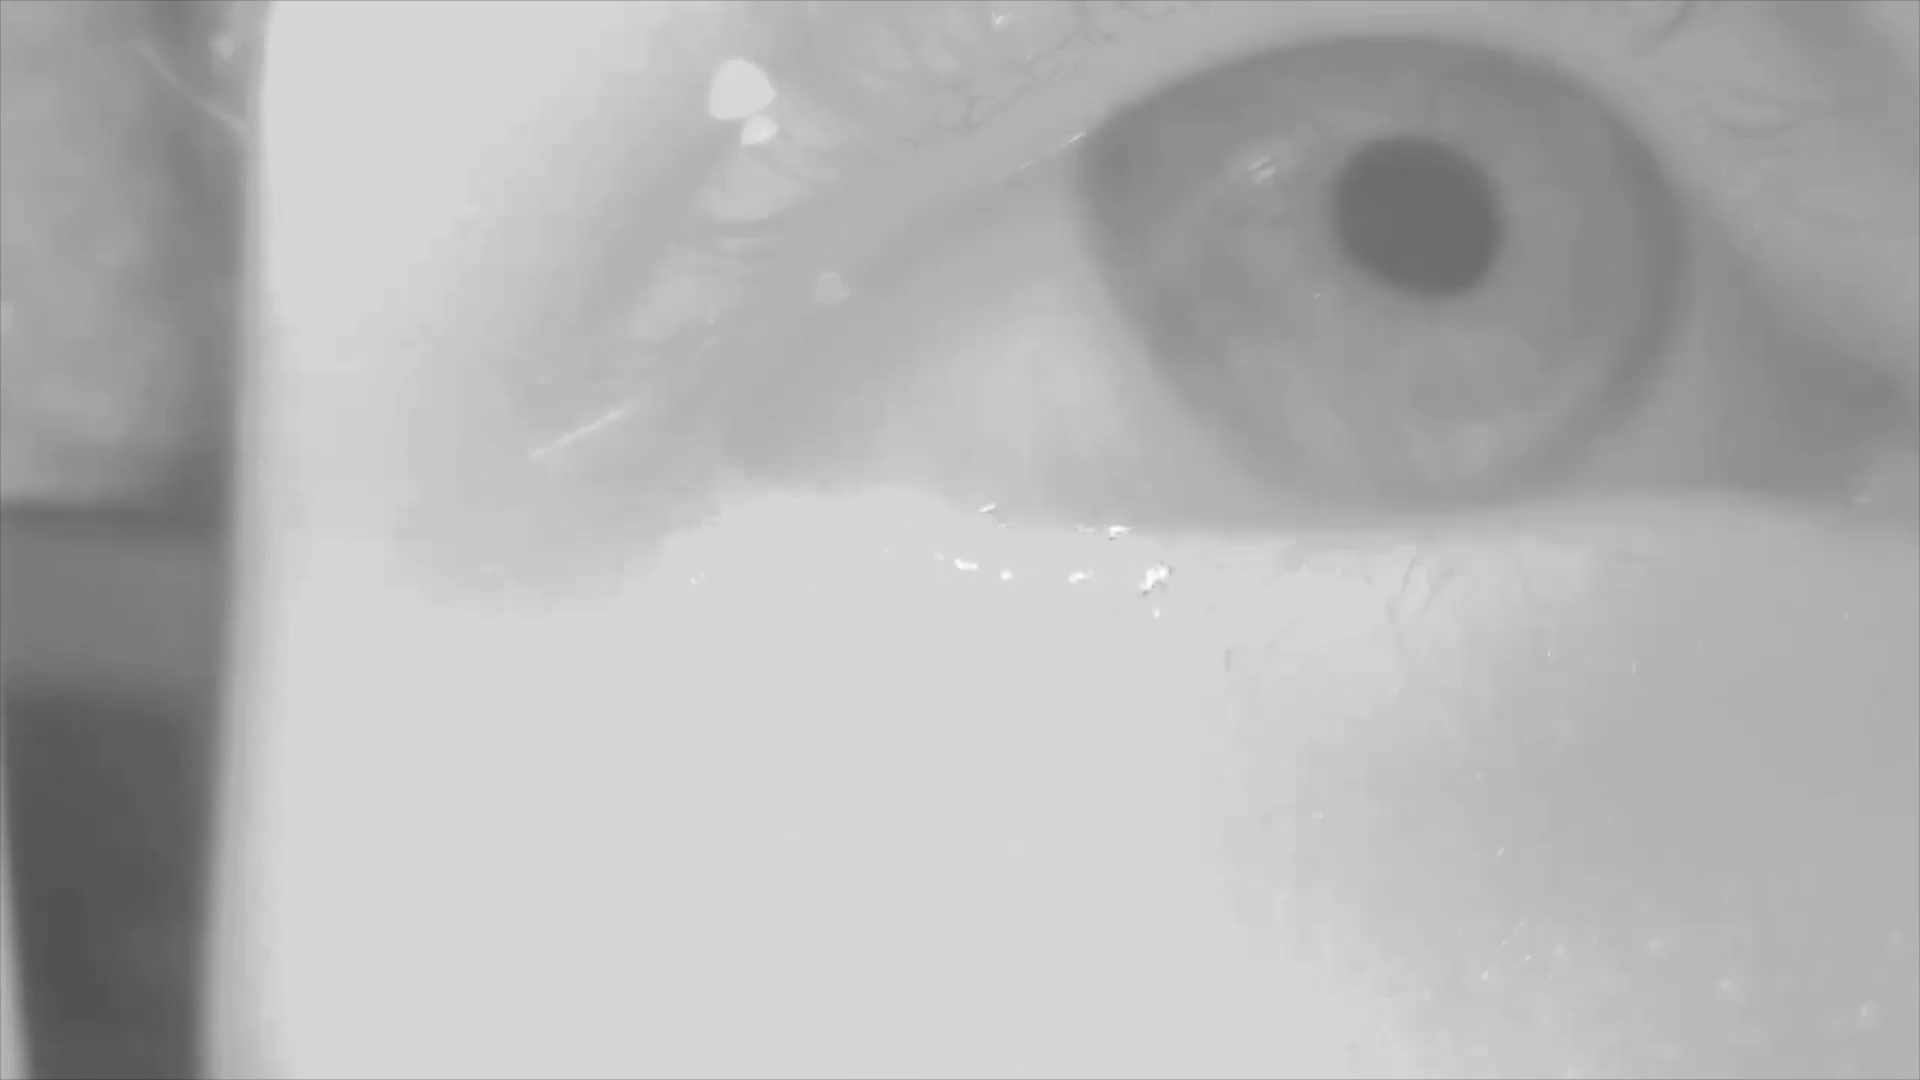pupil: (1333, 126, 1504, 303)
